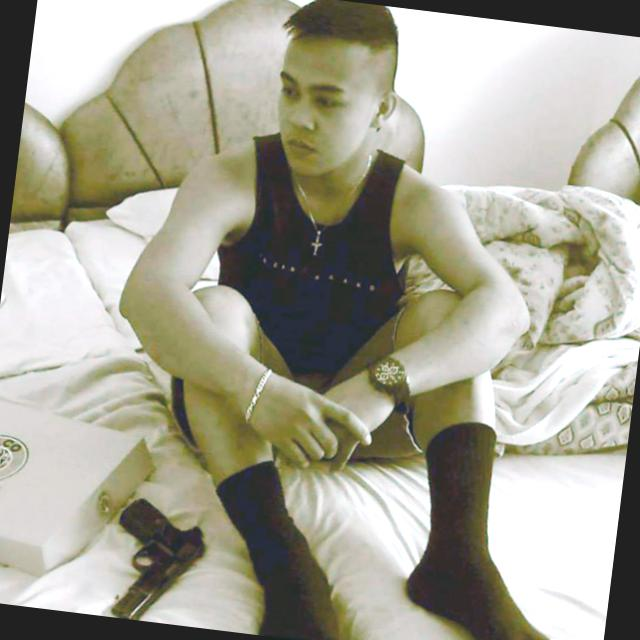handgun: (86, 479, 210, 626)
